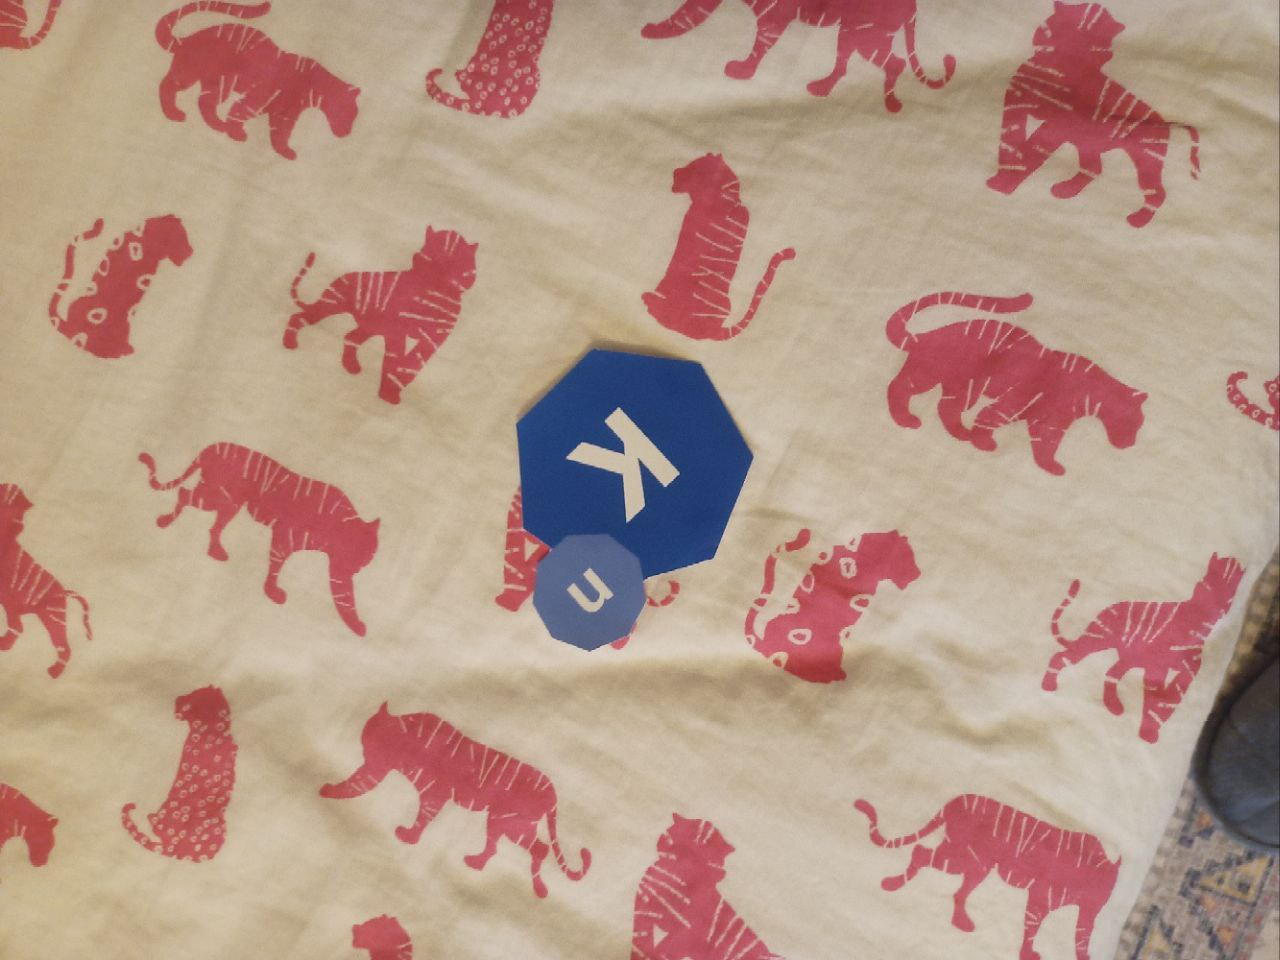knative: (517, 348, 754, 652)
